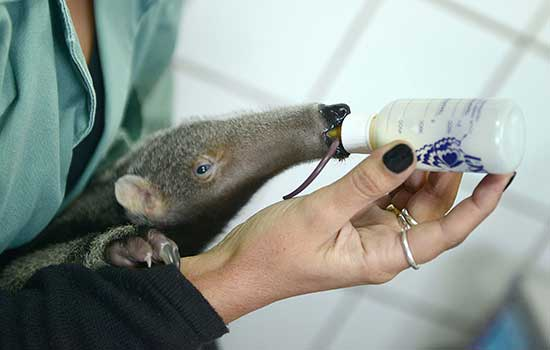TamanduaBandeira: (15, 100, 354, 279)
